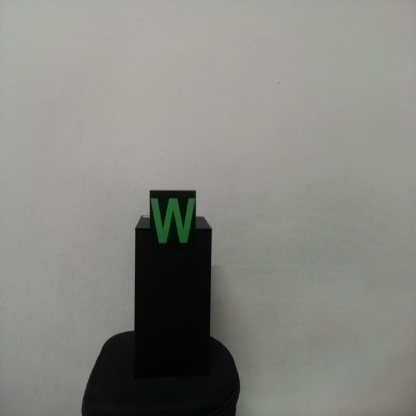id_12: (149, 190, 197, 255)
